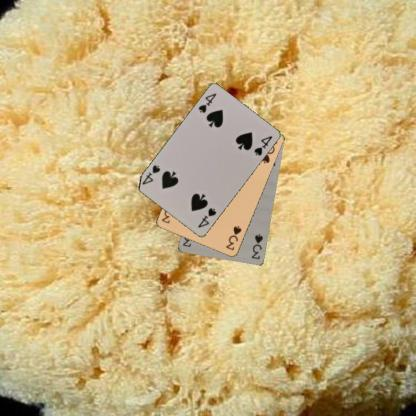3s: (223, 223, 243, 252), (249, 232, 265, 260)
4s: (195, 206, 218, 229), (196, 91, 218, 114)
